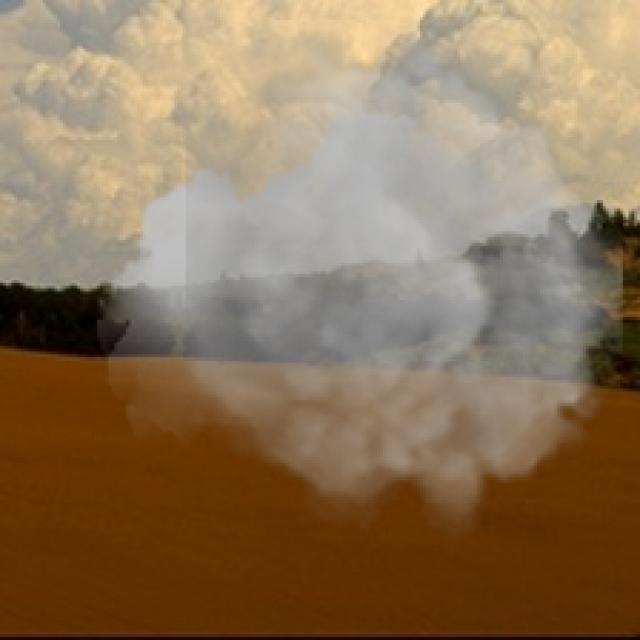smoke: (97, 14, 623, 540)
